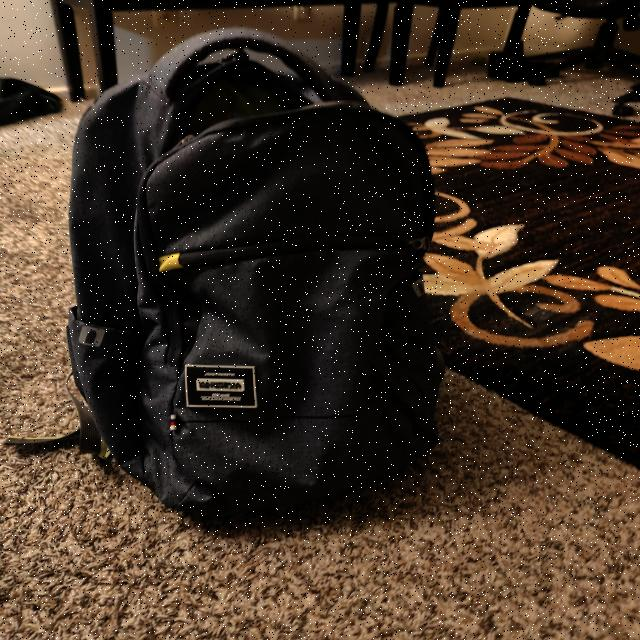bag: (61, 32, 432, 522)
